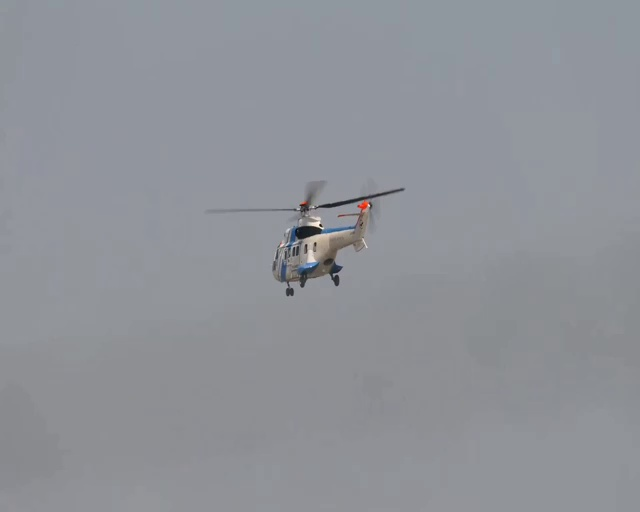HELICOPTER: (205, 179, 405, 297)
